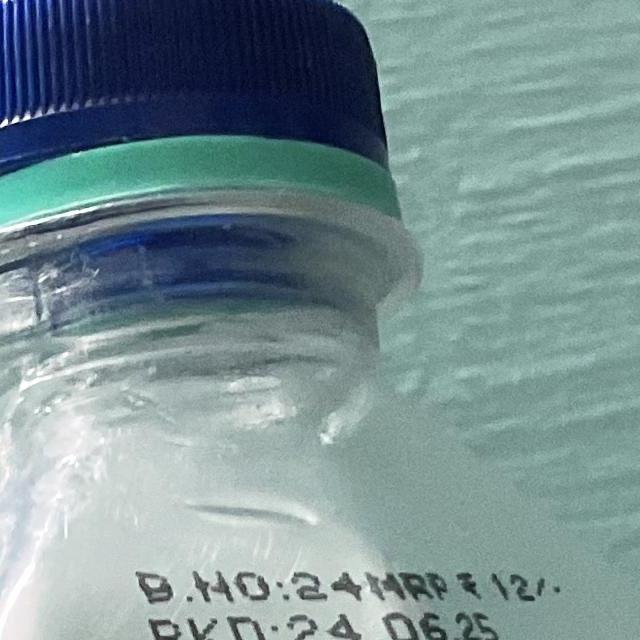Good-cap-Df0S: (0, 0, 458, 285)
